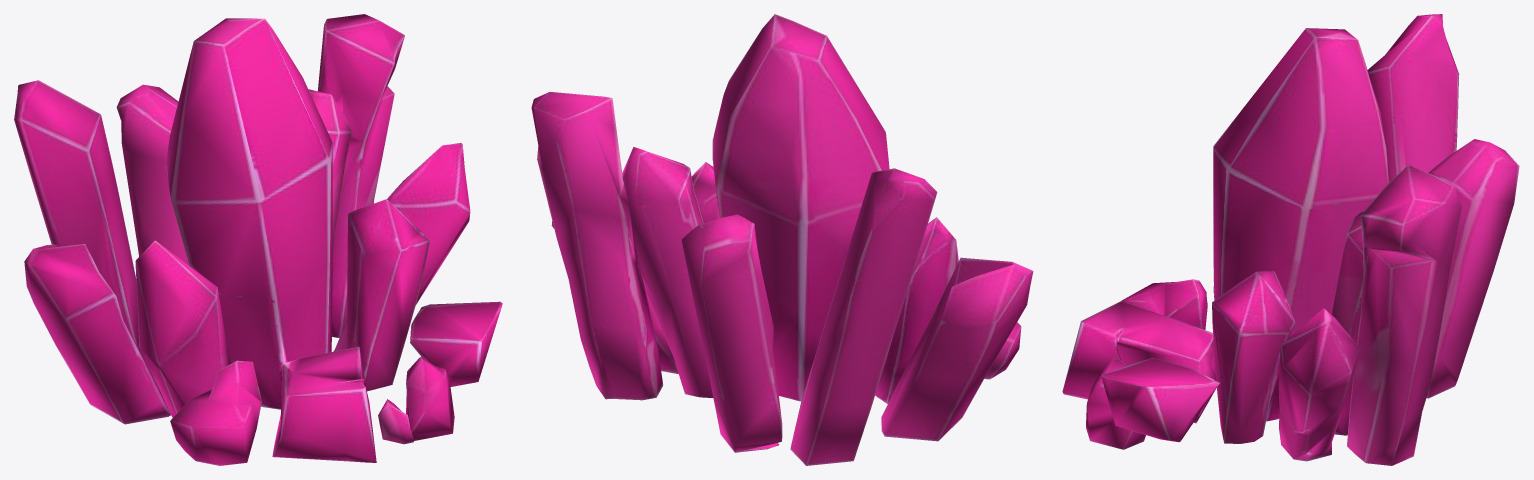
File: crystal-pink.glb
3 views of the same model, side by side, from view 1: azimuth 30°, elevation 25°; view 2: azimuth 150°, elevation 25°; view 3: azimuth 270°, elevation 25° (orthographic). The views are drawn at different scales.
Bounding box in the file's own units: 1.9 × 1.45 × 1.65.
1 material, 1 textured.
